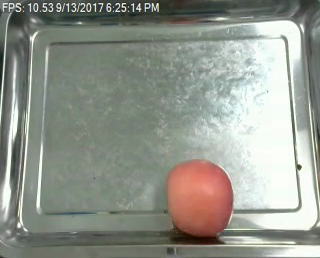Apple: (165, 158, 235, 240)
